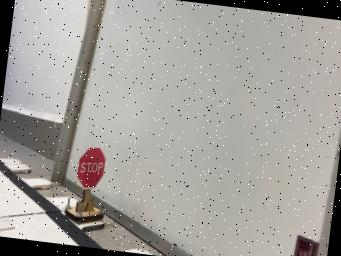stop: (64, 146, 105, 223), (64, 146, 105, 223), (64, 146, 105, 223)
street: (0, 163, 102, 249), (0, 163, 102, 249), (0, 163, 102, 249)
